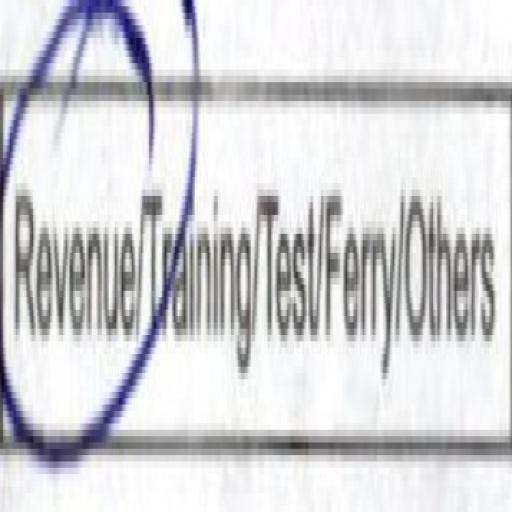check: (1, 0, 143, 512)
